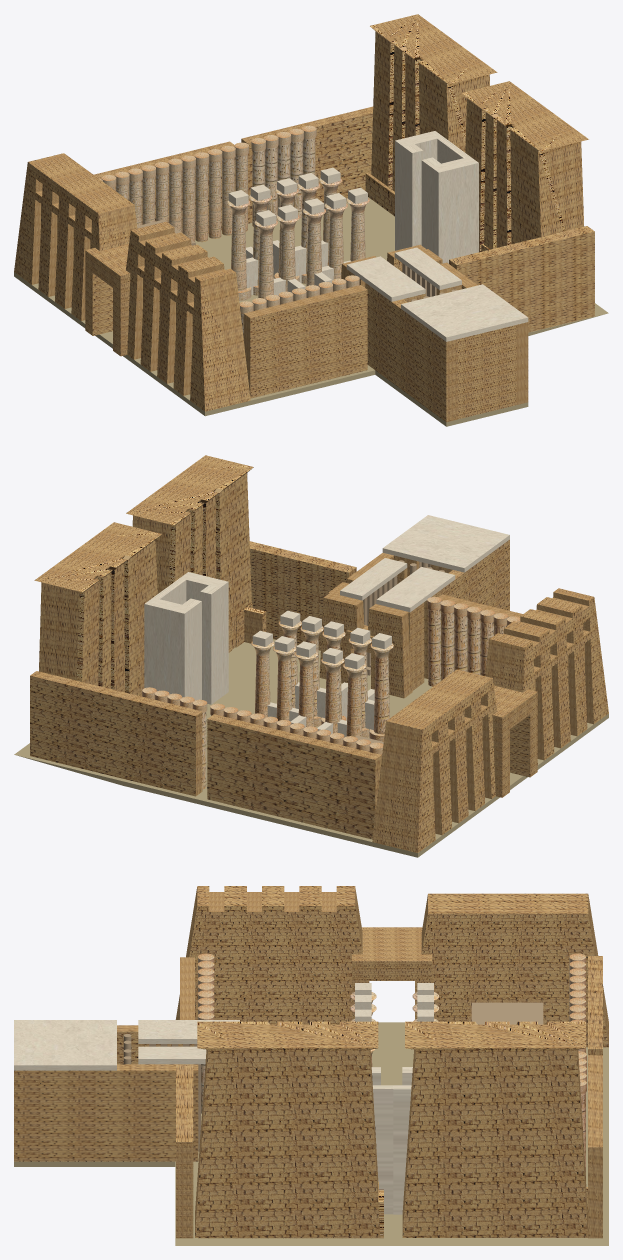
File: karnak22.fbx
3 views of the same model, one above another, from view 1: azimuth 30°, elevation 25°; view 2: azimuth 150°, elevation 25°; view 3: azimuth 270°, elevation 25° (orthographic). The views are drawn at different scales.
Parts seen in each view (by area): view 1: Cube.009, Cube.062, Cube.011, Cube.061, Cylinder, Cube.041, Cube.031, Cube.060, Cube.063, Cube.034, Cube.044, Cube.036 (+10 smaller); view 2: Cube.009, Cube.062, Cube.036, Cube.023, Cube.060, Cube.034, Cube.061, Cube.064, Cube.031, Cylinder.001, Cube.042, Cube.057 (+10 smaller); view 3: Cube.062, Cube.009, Cube.043, Cube.060, Cube.057, Cube.061, Cube.036, Cube.063, Cube.064, Cube.022, Cube.055, Cube.023 (+9 smaller).
Part boxes in pixels (x1,y1,x2,y2): Cube.009: [14, 153, 250, 411]; Cube.062: [370, 14, 588, 252]; Cube.011: [243, 285, 367, 398]; Cube.061: [449, 226, 594, 332]; Cylinder: [99, 142, 248, 242]; Cube.041: [365, 283, 457, 422]; Cube.031: [254, 187, 369, 299]; Cube.060: [14, 197, 608, 416]; Cube.063: [421, 146, 478, 263]; Cube.034: [227, 167, 342, 300]; Cube.044: [458, 325, 516, 419]; Cube.036: [241, 106, 373, 223]; Cube.009: [372, 588, 608, 852]; Cube.062: [34, 455, 253, 696]; Cube.036: [30, 671, 202, 796]; Cube.023: [207, 714, 381, 839]; Cube.060: [14, 639, 608, 857]; Cube.034: [251, 630, 366, 737]; Cube.061: [249, 541, 356, 650]; Cube.064: [144, 588, 201, 700]; Cube.031: [278, 610, 393, 741]; Cylinder.001: [427, 596, 520, 686]; Cube.042: [319, 593, 412, 698]; Cube.057: [382, 515, 509, 572]; Cube.062: [195, 1021, 587, 1237]; Cube.009: [175, 886, 608, 1047]; Cube.043: [14, 1064, 198, 1161]; Cube.060: [175, 1022, 608, 1245]; Cube.057: [14, 1020, 116, 1070]; Cube.061: [176, 1065, 193, 1238]; Cube.036: [588, 1055, 602, 1238]; Cube.063: [371, 1067, 393, 1214]; Cube.064: [393, 1067, 412, 1214]; Cube.022: [471, 1002, 543, 1024]; Cube.055: [138, 1020, 239, 1043]; Cube.023: [588, 956, 602, 1055].
Bounding box in the file's own units: 2674 × 1117 × 2958.
Materials: 5 (3 with a texture image).
